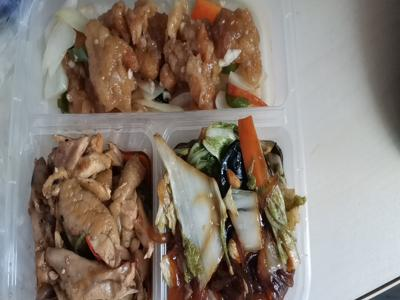gbr: (46, 3, 276, 107)
